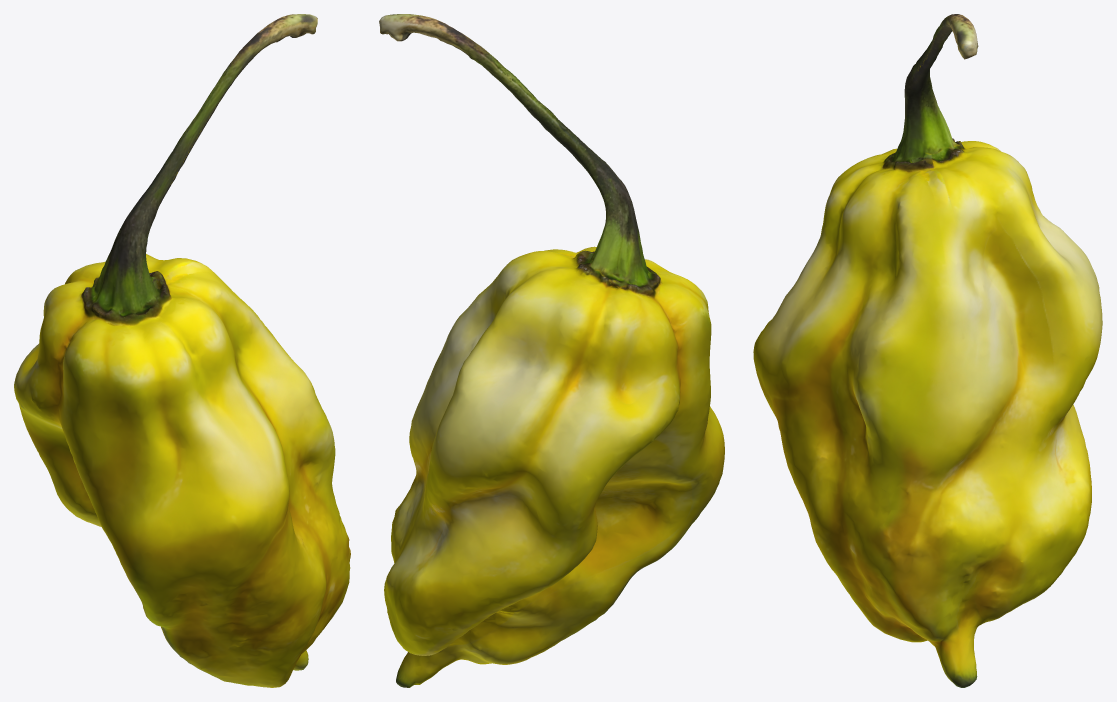
The model's file is Yellow_Spice_small.glb.
3 renders of one model, left to right at view 1: azimuth 30°, elevation 25°; view 2: azimuth 150°, elevation 25°; view 3: azimuth 270°, elevation 25°, orthographic. The views are drawn at different scales.
Size of the model in its own units: 0.8854 by 1.93 by 0.9243.
Materials: 1 (1 with a texture image).
